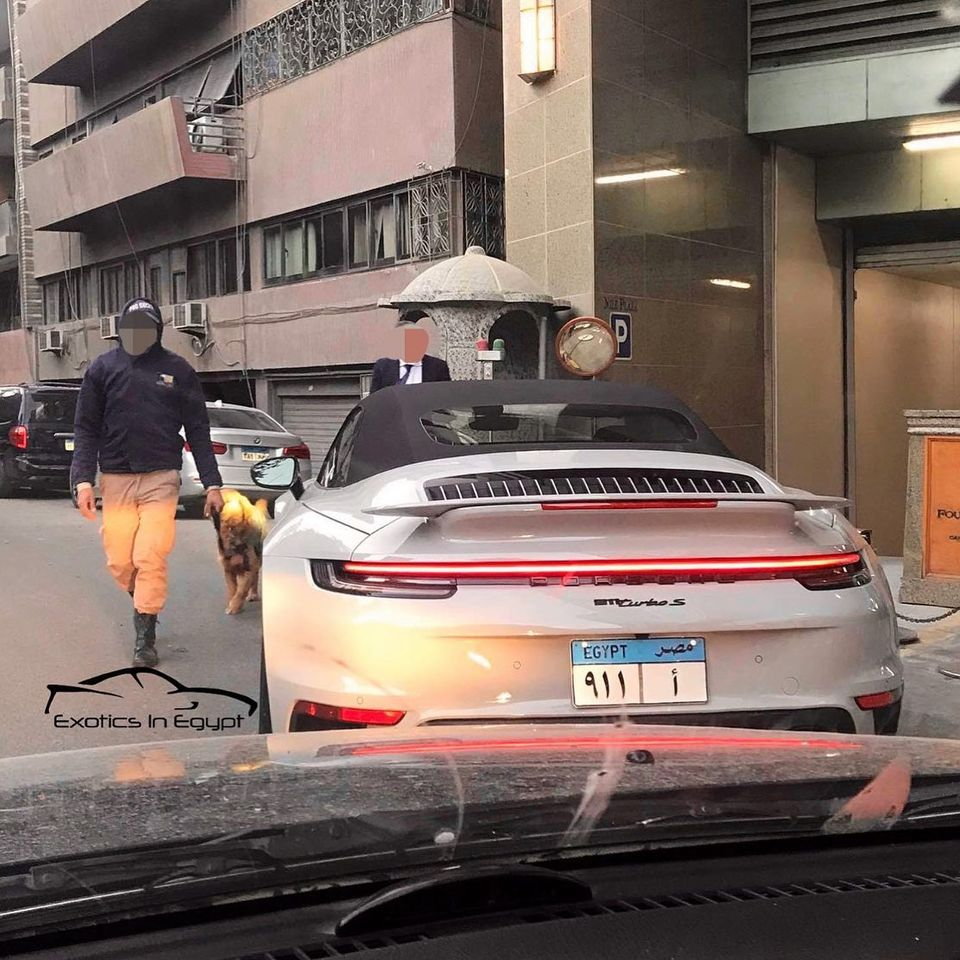carpl: (571, 637, 711, 705)
